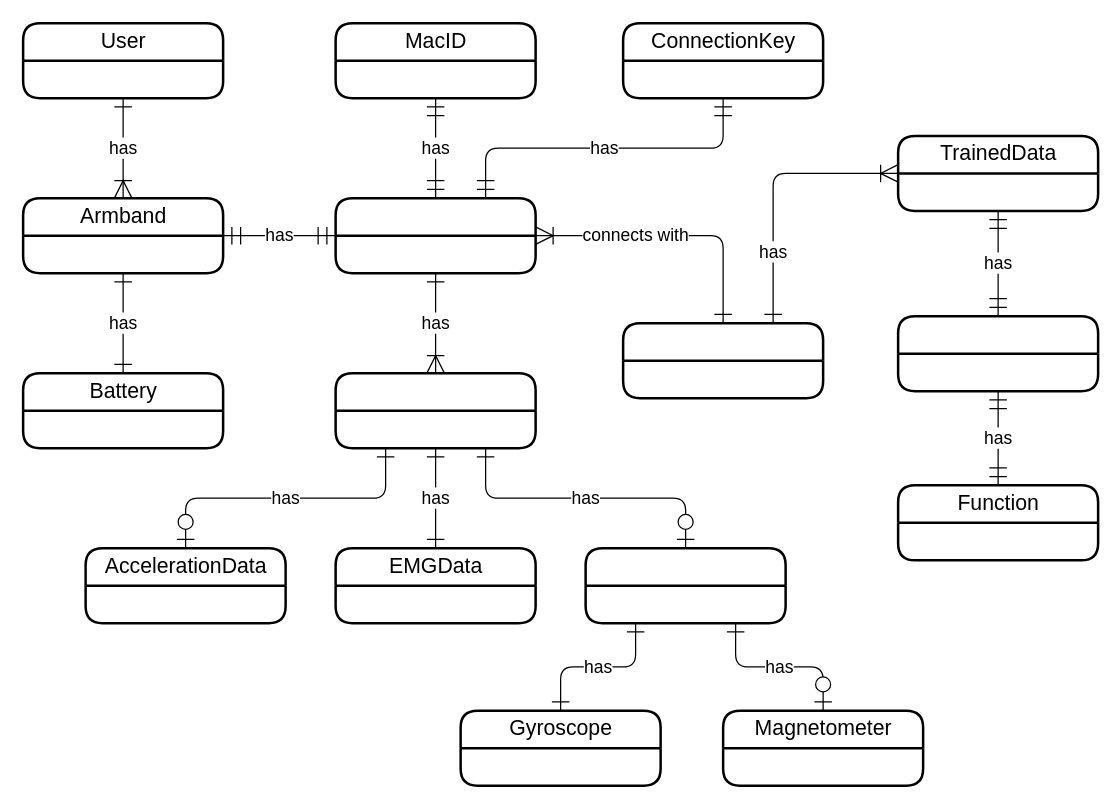
This 1120x808 diagram has some shape labels left out. The centre of each missing label's shape, as x and y in pixels:
Application: the point at 722,360
Bluetooth Adapter: the point at 435,235
DataPackage: the point at 435,410
HandGesture: the point at 997,353
OrientationData: the point at 685,585
